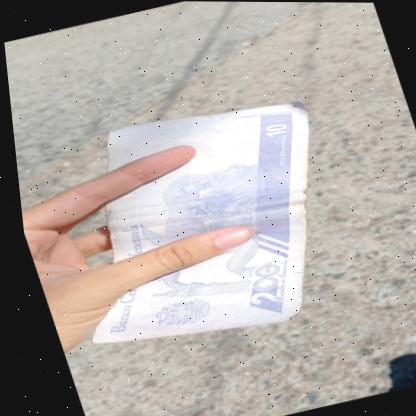ten-back-vef: (22, 86, 369, 367)
